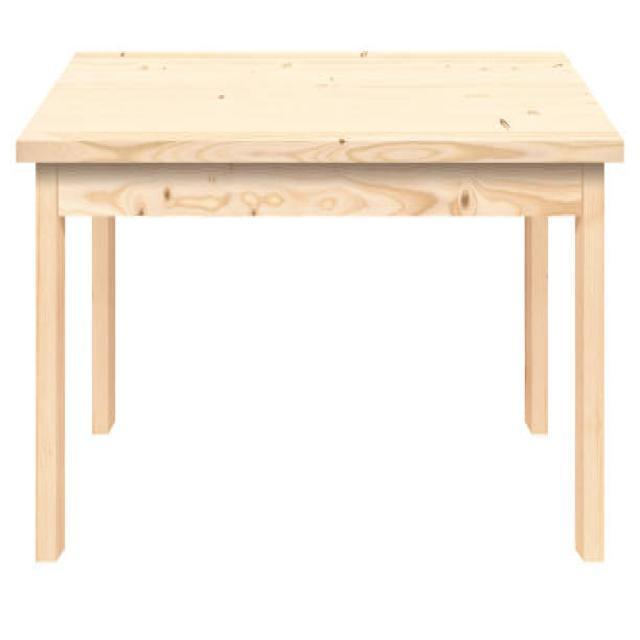table: (14, 46, 624, 566)
